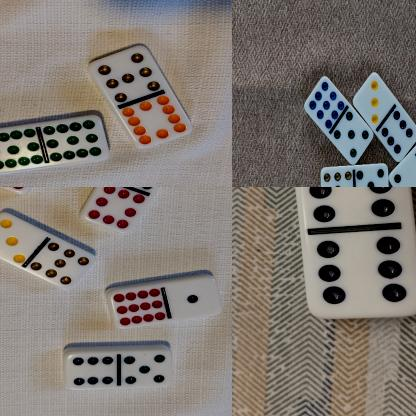pip-1: (165, 277, 224, 320)
pip-10: (122, 96, 192, 147)
pip-11: (44, 116, 112, 164), (0, 128, 45, 175)
pip-12: (112, 287, 170, 329)
pip-2: (389, 163, 416, 187)
pip-3: (0, 213, 40, 264), (354, 74, 391, 126)
pip-5: (119, 350, 172, 390), (334, 113, 373, 164), (355, 163, 389, 187)
pip-6: (303, 230, 416, 317), (293, 187, 416, 229), (66, 352, 118, 390), (381, 110, 416, 162)
pip-7: (91, 46, 161, 102), (31, 242, 95, 290), (320, 167, 355, 187)
pip-8: (82, 187, 146, 234)
pip-9: (304, 78, 346, 130)
